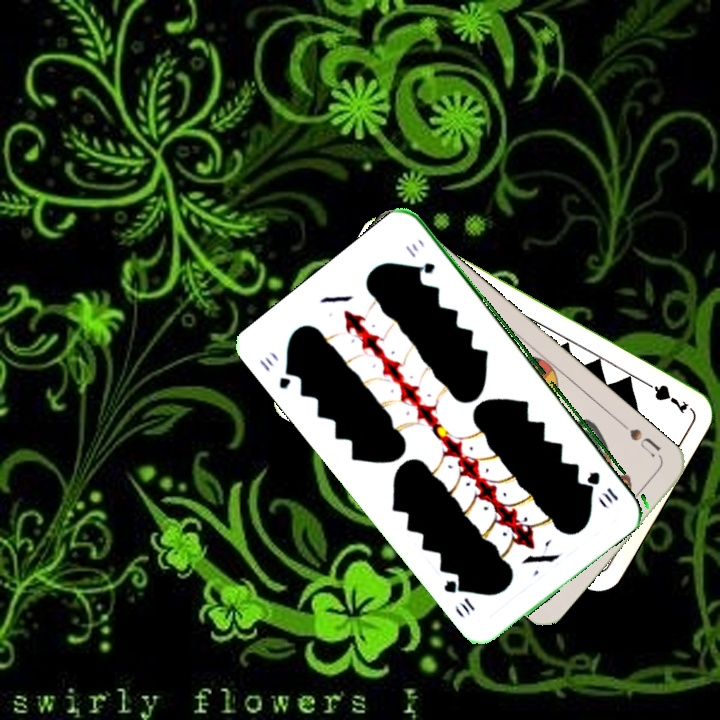G10: (255, 353, 300, 392), (584, 467, 621, 506)
G7: (637, 376, 692, 417)
SU: (616, 418, 664, 460)
